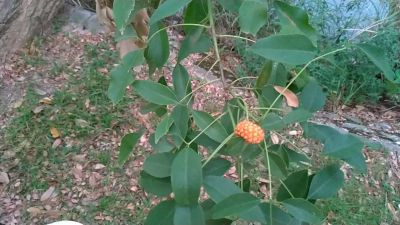eggs: (236, 116, 266, 146)
